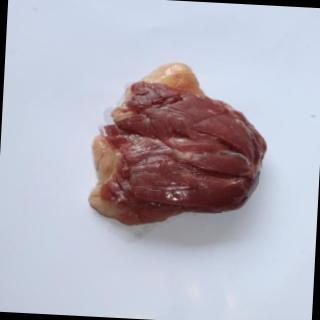Daging Sapi: (89, 60, 271, 234)
